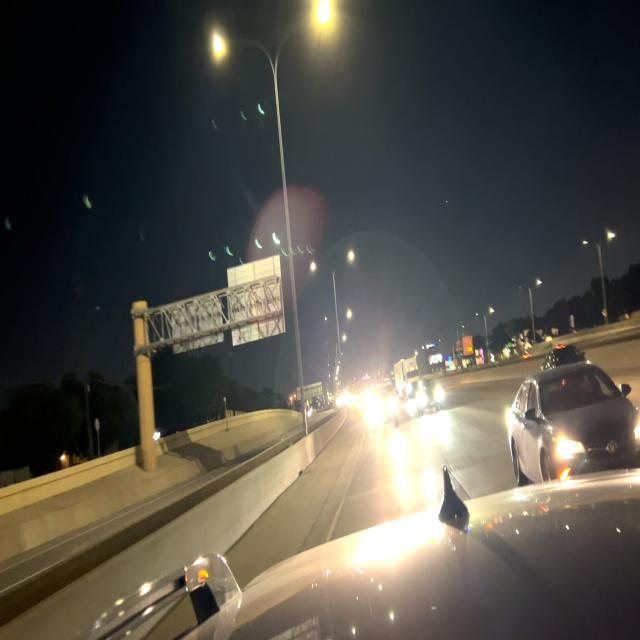back-of-sign: (171, 252, 285, 356), (298, 380, 324, 402)
